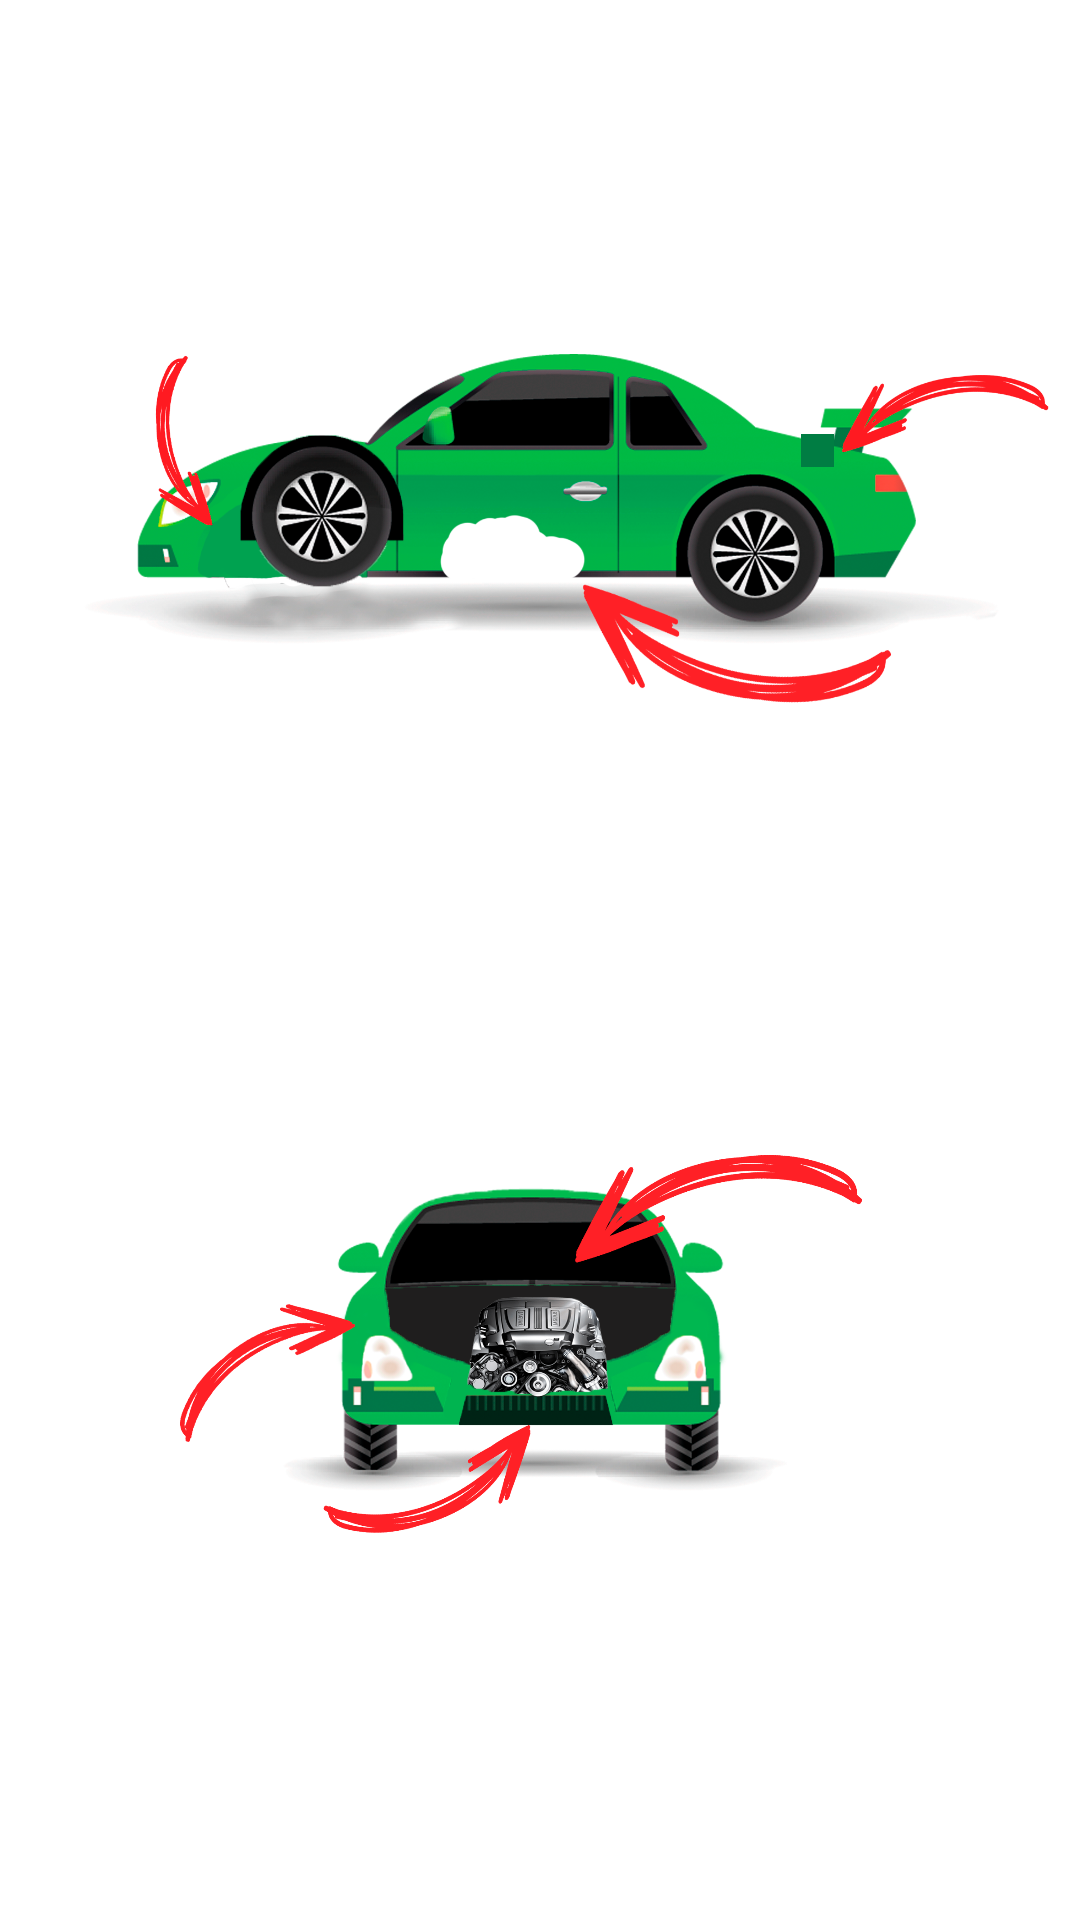

Icons on this 1080×1920 Android screen, each with the point to tap as (x,y):
wheel: (321,511)
